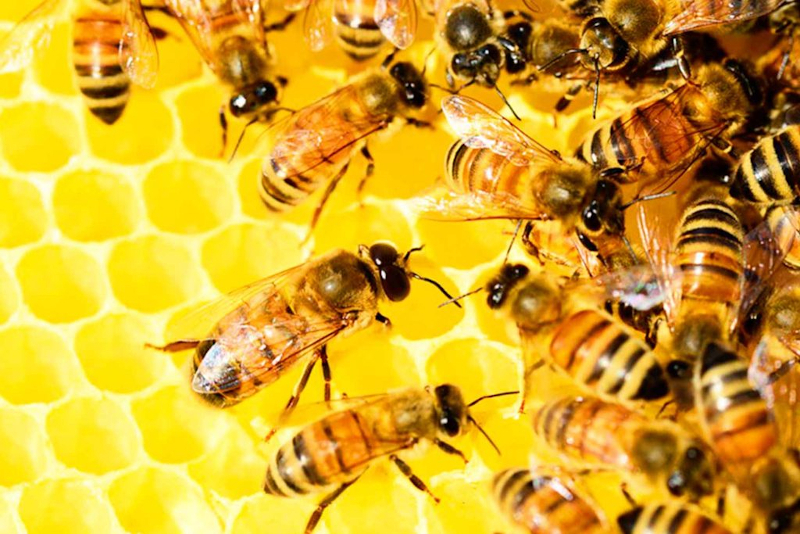abeja: (125, 230, 454, 434), (241, 377, 503, 529), (454, 255, 674, 414), (257, 48, 445, 223), (439, 99, 629, 250)
